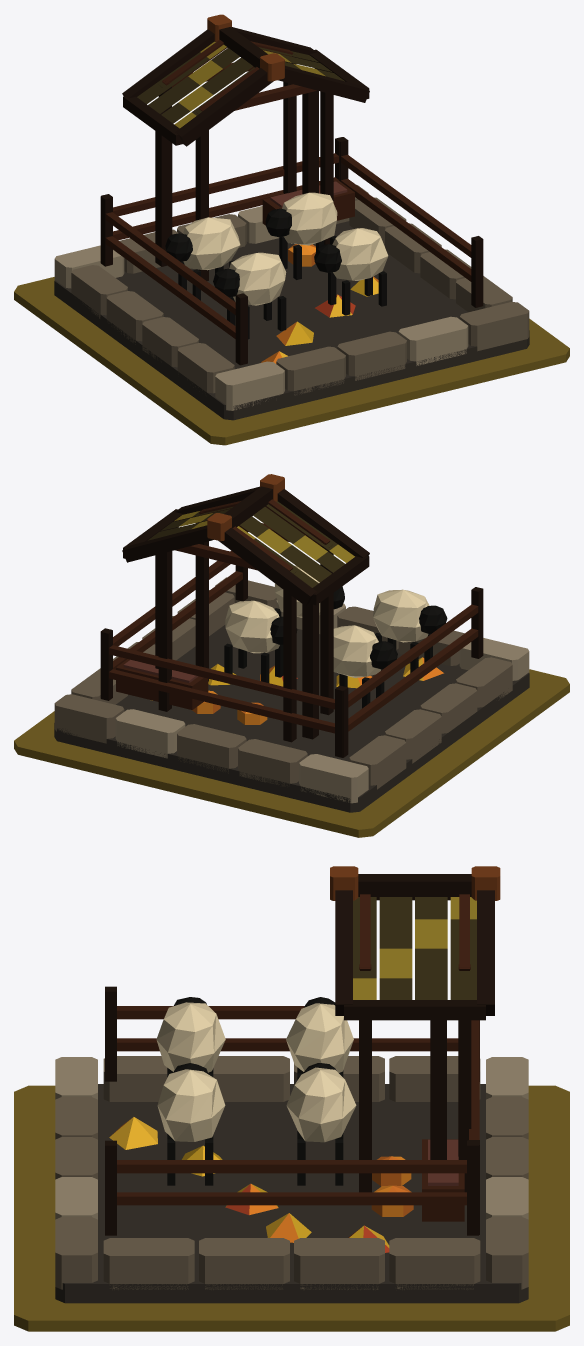
The model's file is pasture_t5.glb.
3 renders of one model, top to bottom at view 1: azimuth 30°, elevation 25°; view 2: azimuth 150°, elevation 25°; view 3: azimuth 270°, elevation 25°, orthographic. The views are drawn at different scales.
Parts seen in each view (by area): view 1: MMR | pasture | T05 Architecture.001, MMR | pasture | Tier 05 Ground.001, MMR | pasture | T05 Autumn Dressing.001; view 2: MMR | pasture | T05 Architecture.001, MMR | pasture | Tier 05 Ground.001, MMR | pasture | T05 Autumn Dressing.001; view 3: MMR | pasture | T05 Architecture.001, MMR | pasture | Tier 05 Ground.001, MMR | pasture | T05 Autumn Dressing.001.
Boxes of the visible parts, x1,y1,x2,y2 form: MMR | pasture | T05 Architecture.001: (54, 14, 529, 420); MMR | pasture | Tier 05 Ground.001: (14, 277, 569, 445); MMR | pasture | T05 Autumn Dressing.001: (261, 244, 378, 363); MMR | pasture | T05 Architecture.001: (54, 474, 529, 812); MMR | pasture | Tier 05 Ground.001: (14, 669, 569, 837); MMR | pasture | T05 Autumn Dressing.001: (152, 657, 443, 724); MMR | pasture | T05 Architecture.001: (55, 866, 528, 1303); MMR | pasture | Tier 05 Ground.001: (14, 1085, 569, 1331); MMR | pasture | T05 Autumn Dressing.001: (109, 1117, 413, 1252).
Bounding box in the file's own units: 2.35 × 1.59 × 2.35.
Materials: 1 (1 with a texture image).
